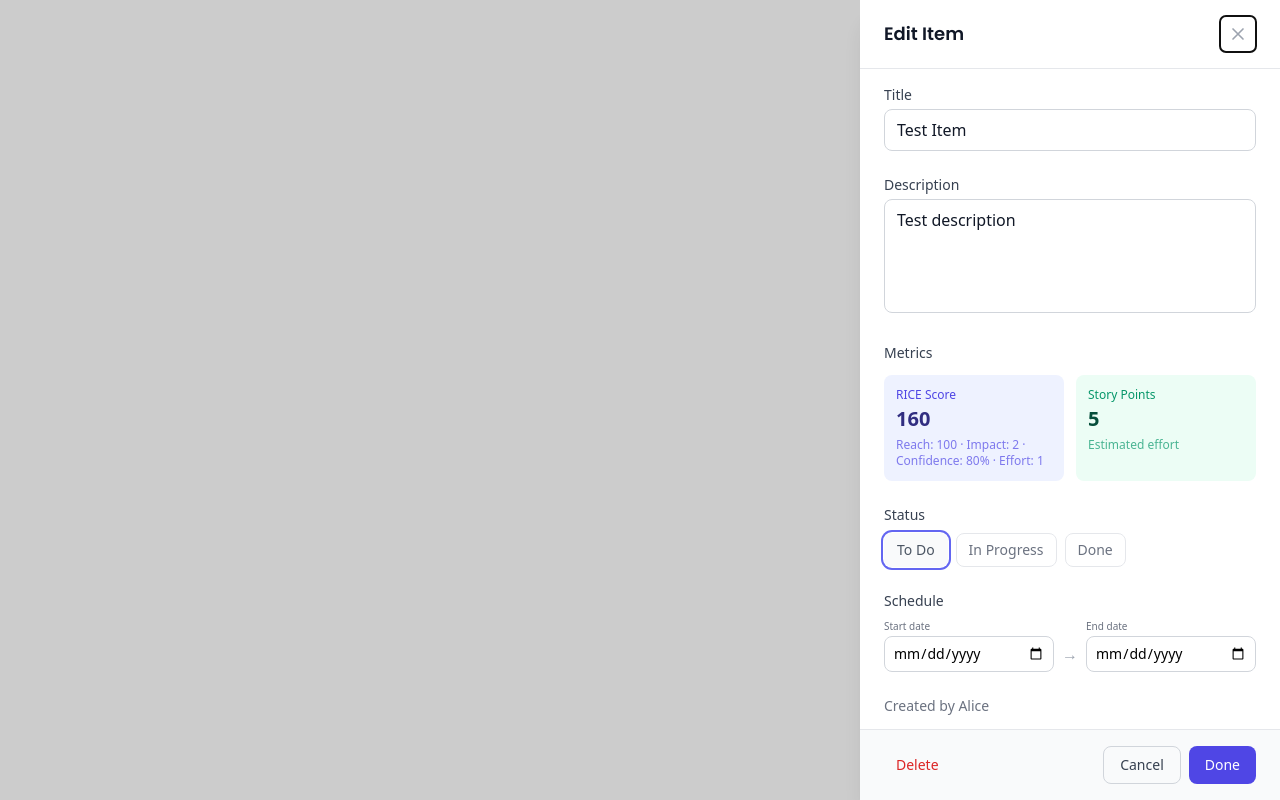
ItemDrawer › disables save button when title is empty
The image size is (1280, 800).
Clear the field labelled "Title" at [1070, 130], box [884,109,1256,151]
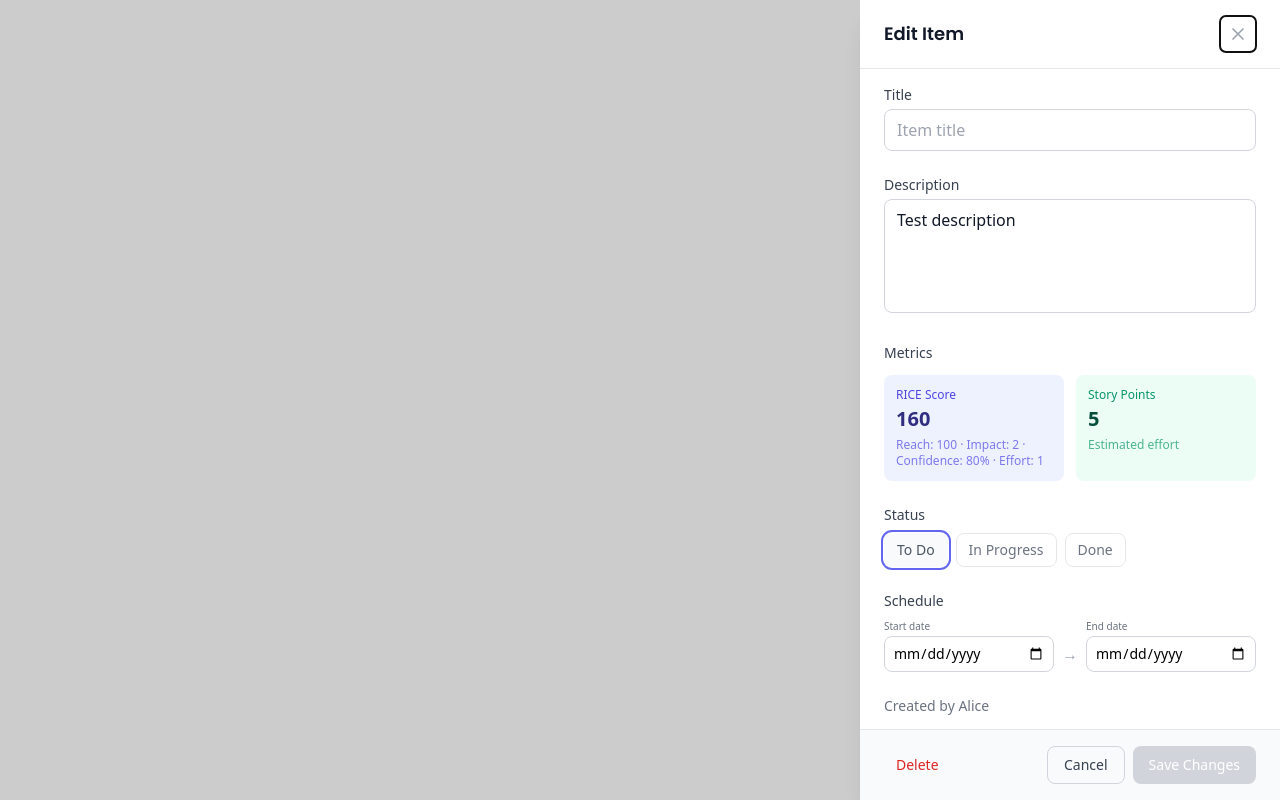
Expected: the button "Save Changes" is disabled, [1133,746,1256,784]
